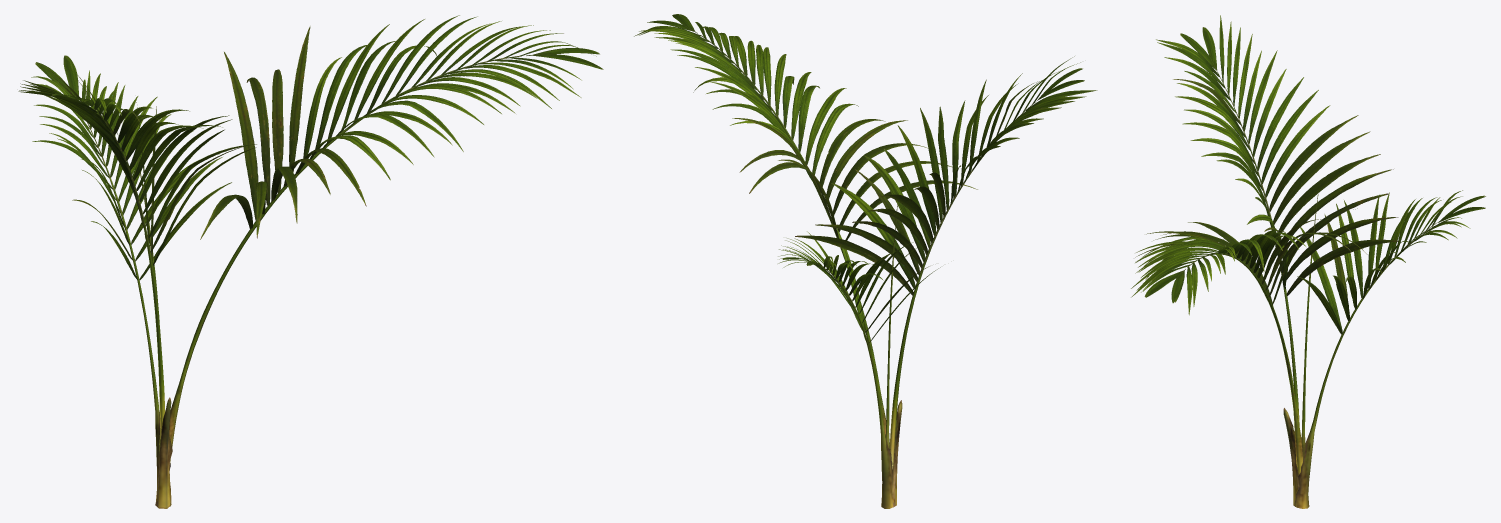
Rendered from palm.glb.
The picture shows the model from 3 angles, left to right: view 1: azimuth 30°, elevation 25°; view 2: azimuth 150°, elevation 25°; view 3: azimuth 270°, elevation 25°; orthographic projection. The views are drawn at different scales.
Visible parts, largest first — view 1: Megascans palm; view 2: Megascans palm; view 3: Megascans palm.
Part boxes in pixels (<box>): Megascans palm: <box>18,15,603,508</box>; Megascans palm: <box>634,14,1097,508</box>; Megascans palm: <box>1131,15,1485,508</box>.
Bounding box in the file's own units: 1.74 × 1.46 × 1.16.
1 material, 1 textured.
